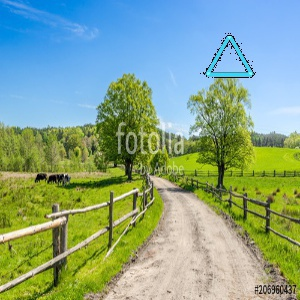triangle: (201, 30, 256, 83)
